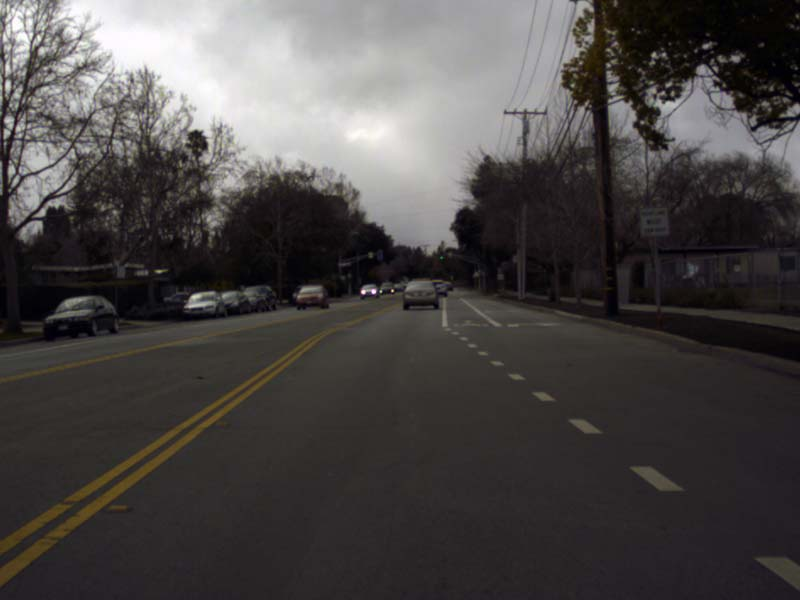Green: (346, 269, 351, 278), (478, 266, 481, 275), (440, 251, 443, 259)
